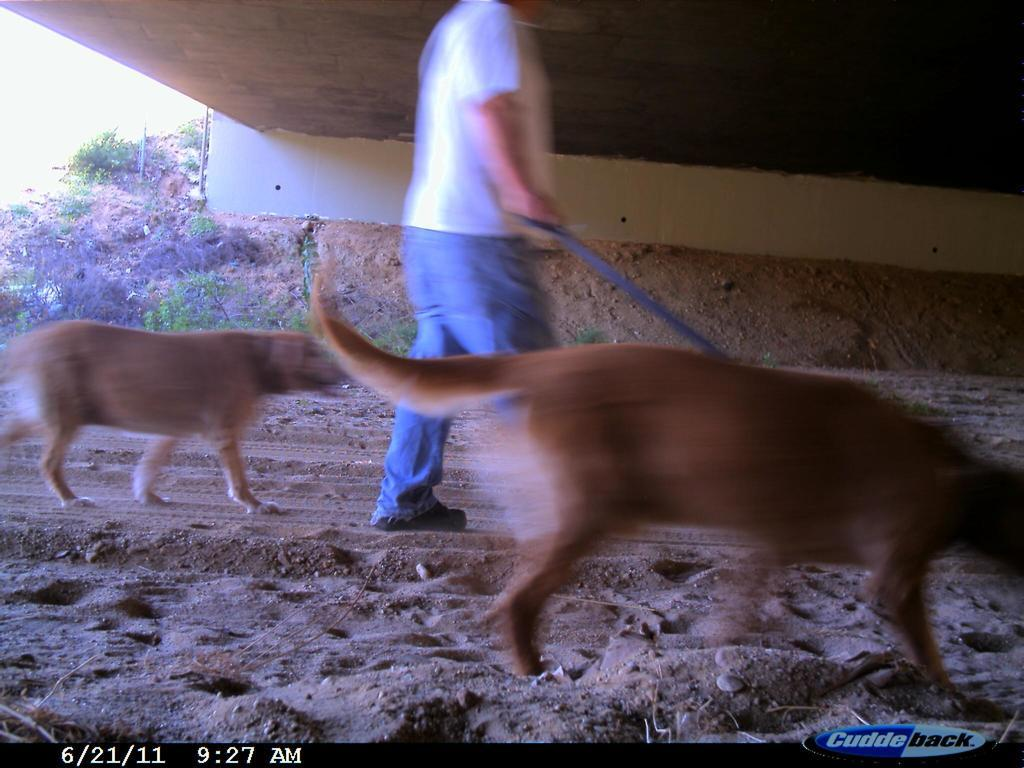dog: (308, 254, 1023, 725), (1, 318, 355, 516)
